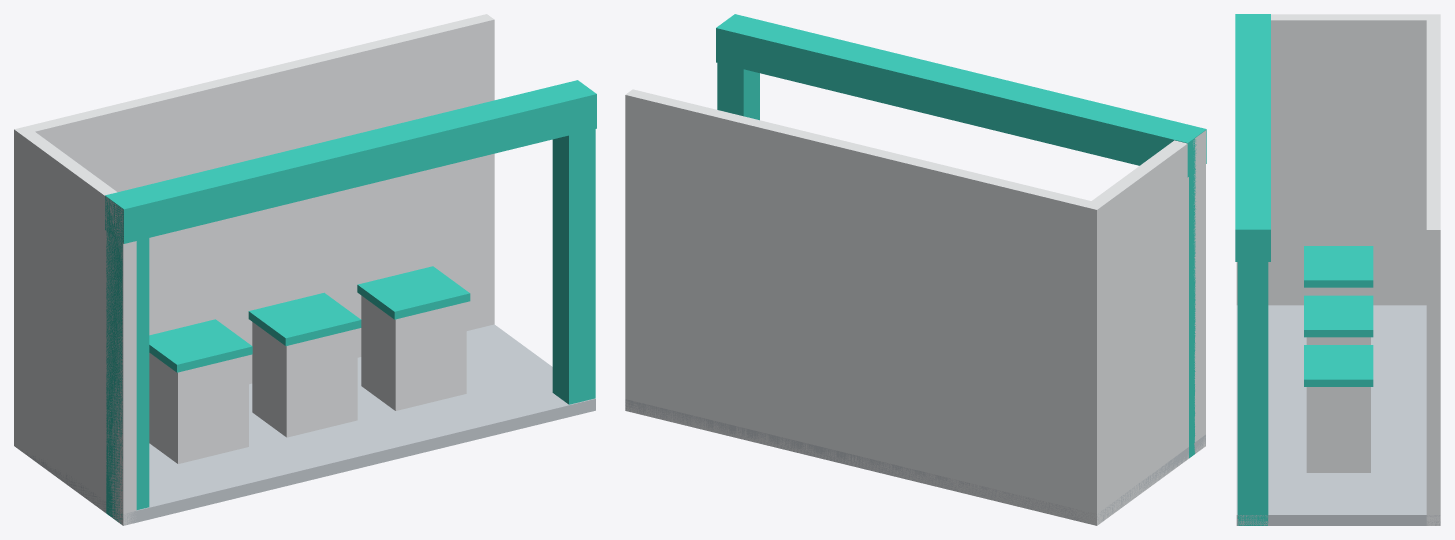
3 views of the same model, side by side, from view 1: azimuth 30°, elevation 25°; view 2: azimuth 150°, elevation 25°; view 3: azimuth 270°, elevation 25° (orthographic). The views are drawn at different scales.
Visible parts, largest first — view 1: Exhibition Booth Concept; view 2: Exhibition Booth Concept; view 3: Exhibition Booth Concept.
Part boxes in pixels (left/top/right/bottom): Exhibition Booth Concept: left=14, top=14, right=596, bottom=525; Exhibition Booth Concept: left=625, top=14, right=1206, bottom=525; Exhibition Booth Concept: left=1235, top=14, right=1440, bottom=525.
Bounding box in the file's own units: 5 × 3.2 × 2.01.
